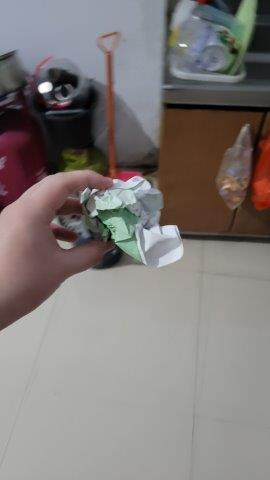kertas: (61, 171, 185, 271)
